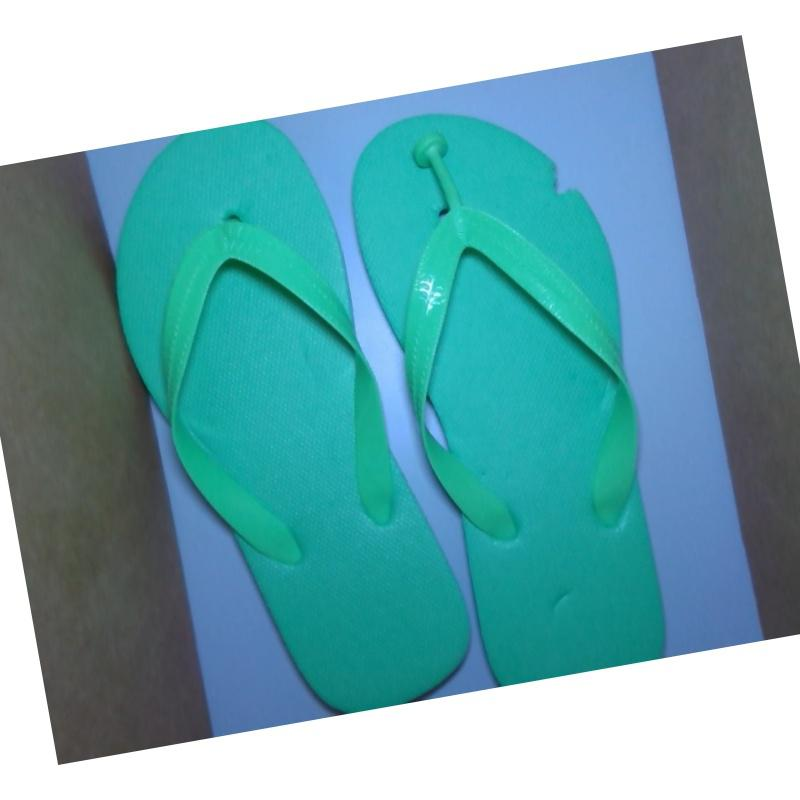chipped: (540, 147, 589, 214)
detached: (402, 126, 458, 186)
